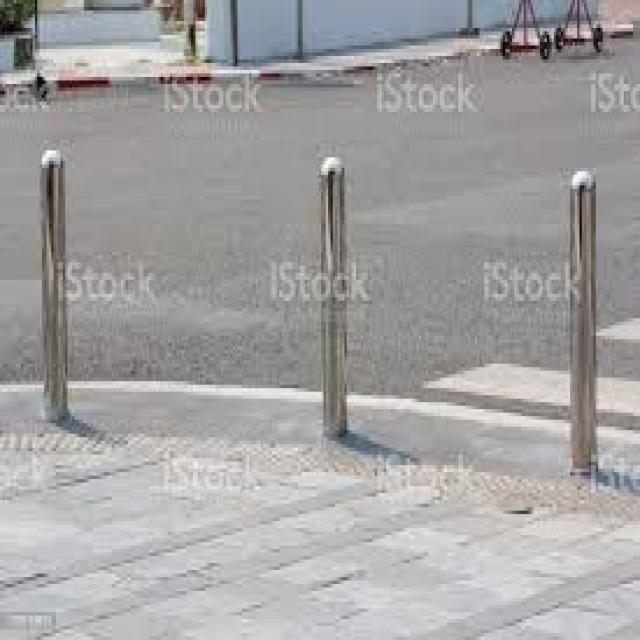bollard: (562, 163, 604, 501), (34, 139, 82, 424), (314, 148, 353, 452)
